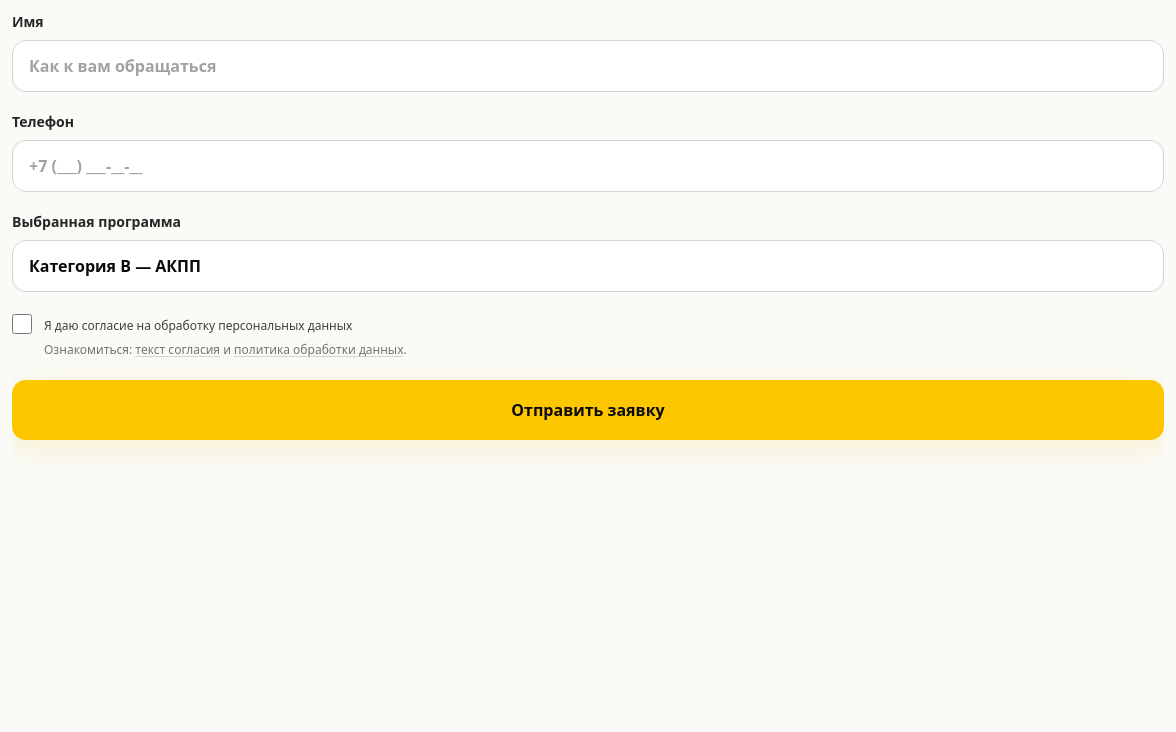
Test: EnrollmentForm › sends the selected program and shows a success state
The image size is (1176, 732).
Type " Илья " into the field labelled "Имя". click: (588, 66)
box: [12,40,1164,92]
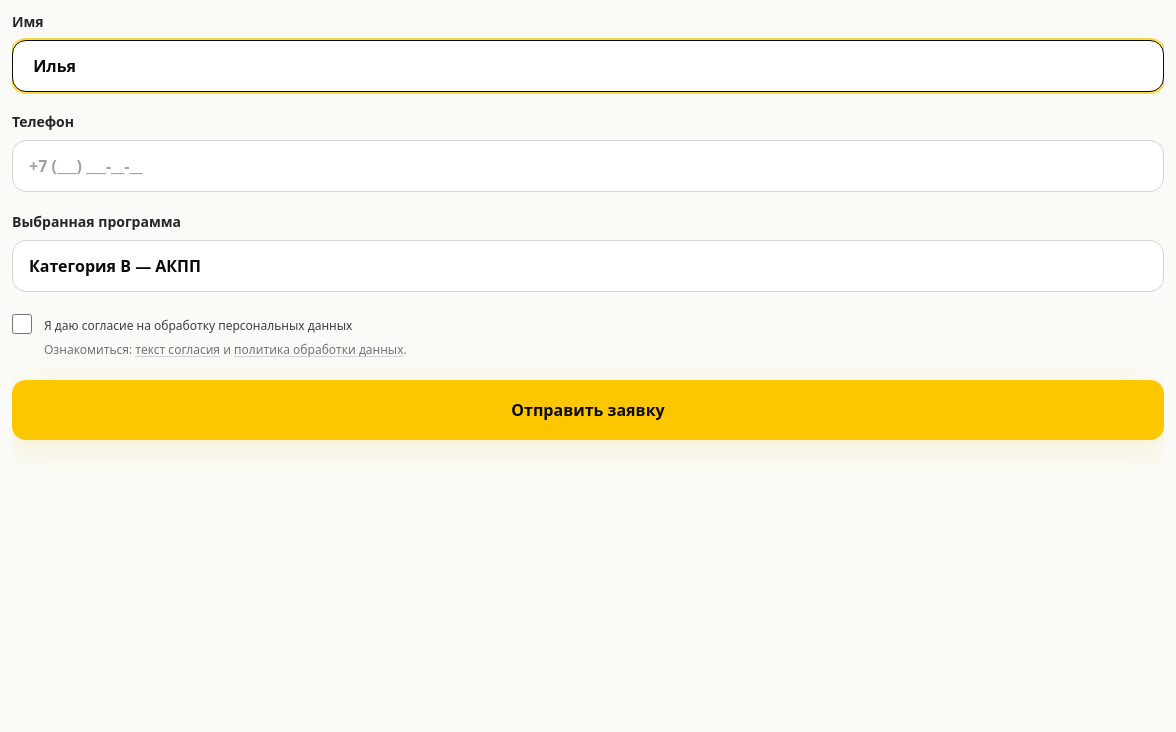
Type "+7 (999) 123-45-67" into the field labelled "Телефон". click: (588, 166)
box: [12,140,1164,192]
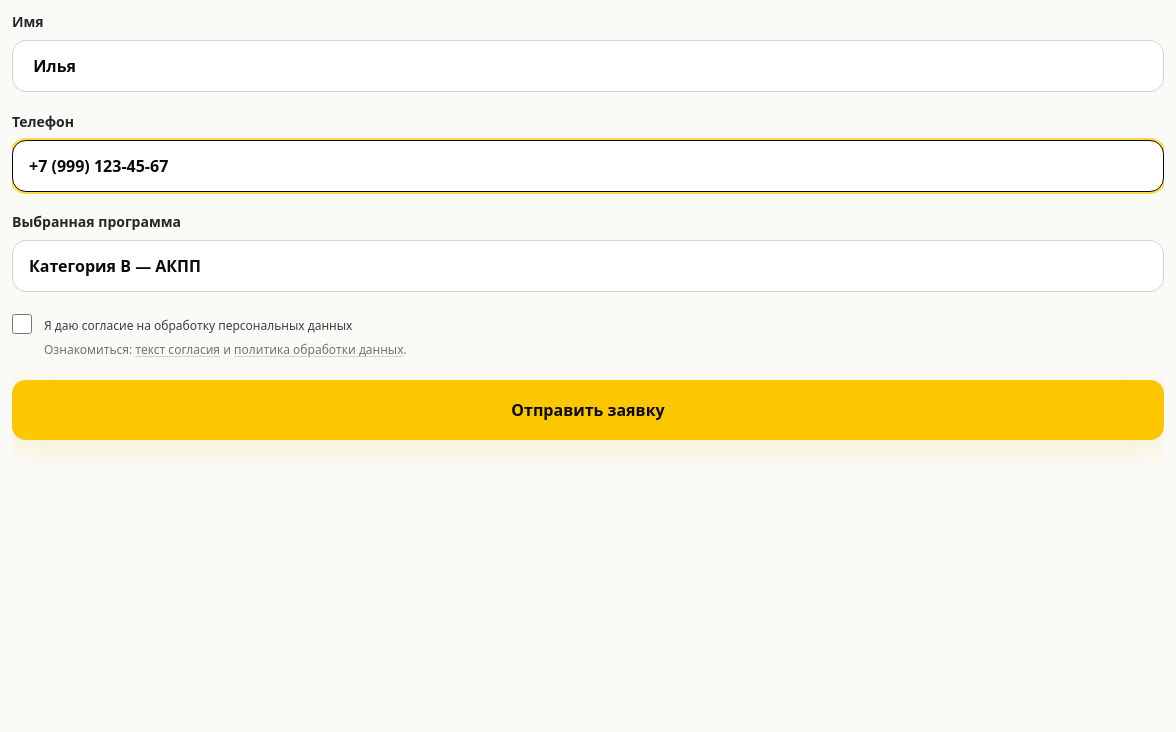
Click the checkbox labelled "Я даю согласие на обработку персональных данных". click: click(22, 324)
box: [12,314,32,334]
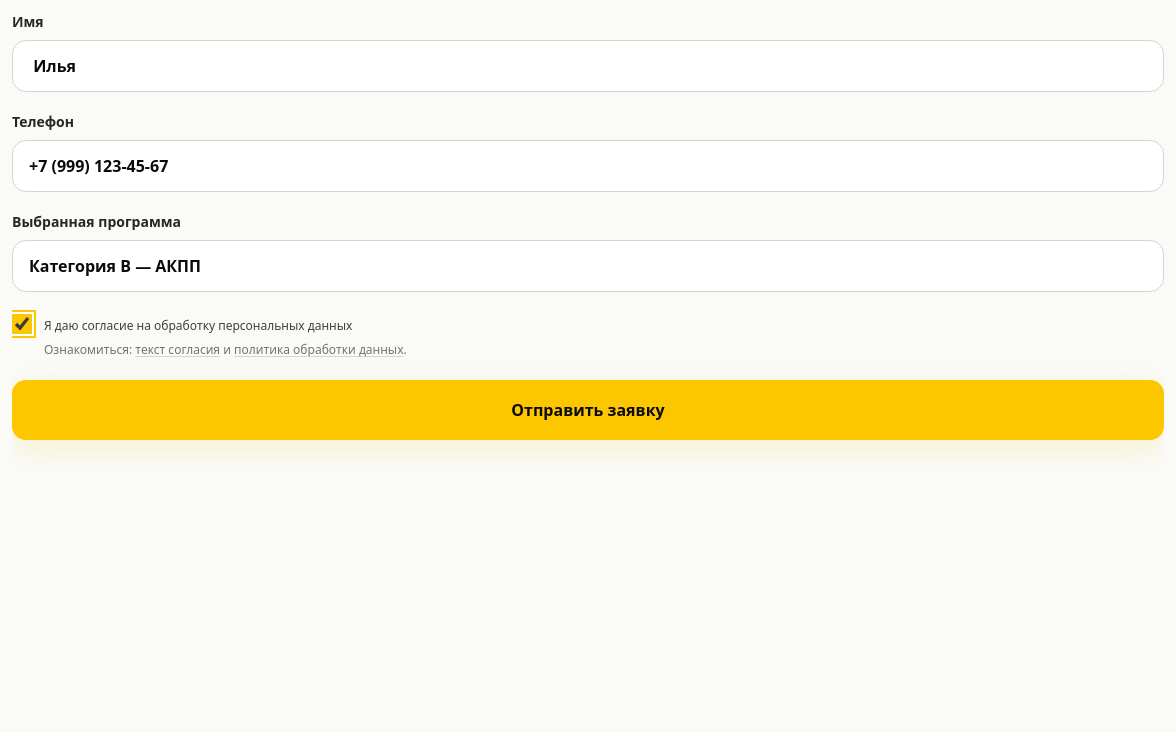
Click the button "Отправить заявку". click: click(588, 410)
box: [12,380,1164,440]
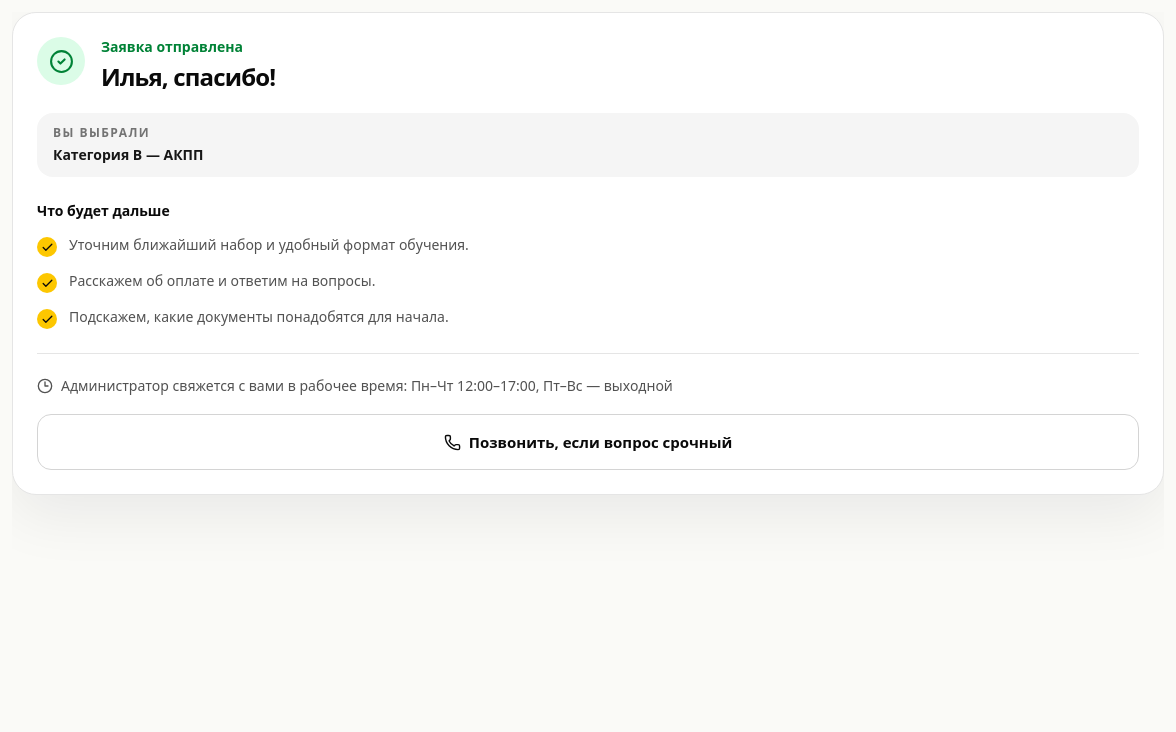
Result: the message shows "Илья, спасибо!" at [101,60,275,93]
Result: the message shows "Заявка отправлена" at [101,37,243,56]
Result: the message shows "Категория B — АКПП" at [53,145,204,164]
